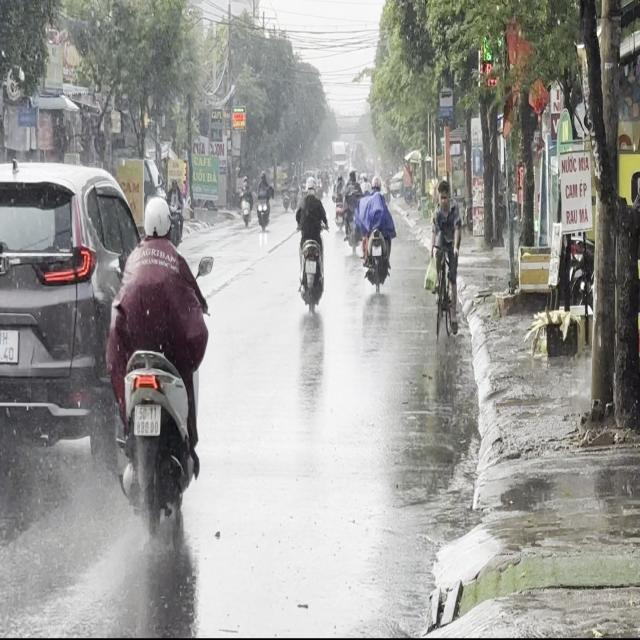helmet: (142, 194, 171, 242)
licenseplate: (107, 190, 210, 527)
nohelmet: (134, 404, 160, 434)
